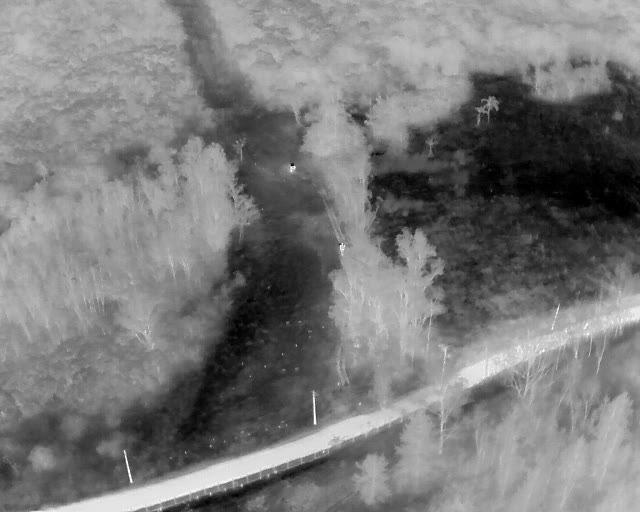car: (292, 287, 302, 304), (323, 83, 335, 95), (320, 95, 330, 107)
person: (305, 283, 309, 291), (320, 110, 324, 116), (327, 105, 330, 112), (319, 105, 322, 111), (324, 106, 327, 112), (322, 106, 324, 111)
